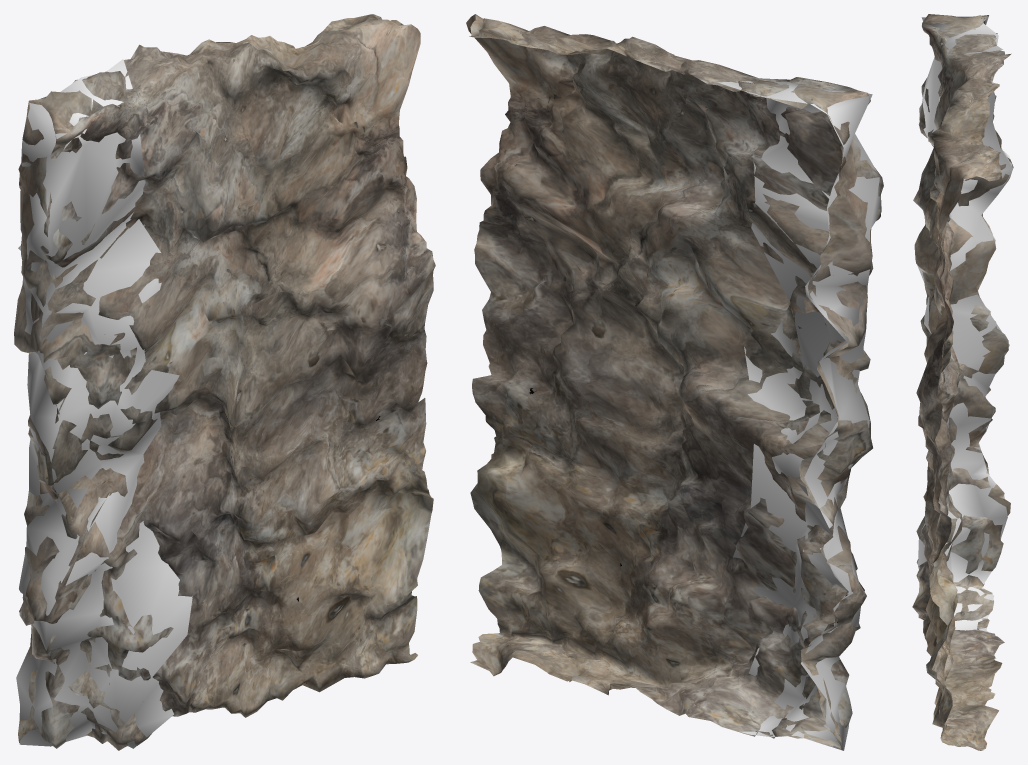
Rendered from Cliff_01.fbx.
The picture shows the model from 3 angles, left to right: view 1: azimuth 30°, elevation 25°; view 2: azimuth 150°, elevation 25°; view 3: azimuth 270°, elevation 25°; orthographic projection. The views are drawn at different scales.
Visible parts, largest first — view 1: Cliff LP, Cliff Coll; view 2: Cliff LP, Cliff Coll; view 3: Cliff LP, Cliff Coll.
Part boxes in pixels (x1=…): Cliff LP: x1=14, y1=14, x2=435, y2=750; Cliff Coll: x1=16, y1=59, x2=192, y2=748; Cliff LP: x1=466, y1=14, x2=883, y2=750; Cliff Coll: x1=717, y1=81, x2=881, y2=750; Cliff LP: x1=912, y1=14, x2=1013, y2=750; Cliff Coll: x1=917, y1=16, x2=1012, y2=632.
Size of the model in its own units: 33.25 by 52.19 by 7.96.
